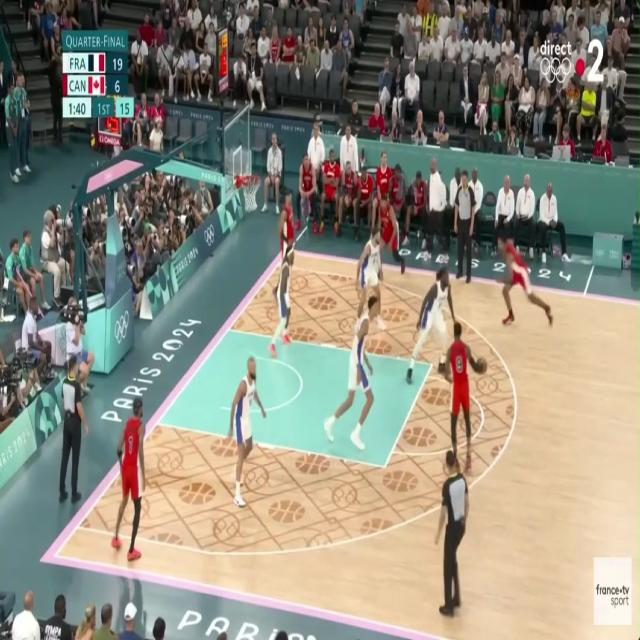ball_handler: (450, 321, 488, 461)
